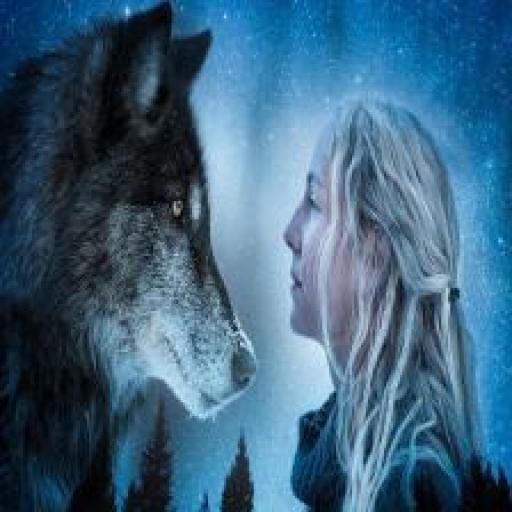wolf: (0, 0, 277, 512)
